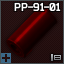PP-91-01 Kedr-B muzzle thread piece: (0, 0, 64, 64)
